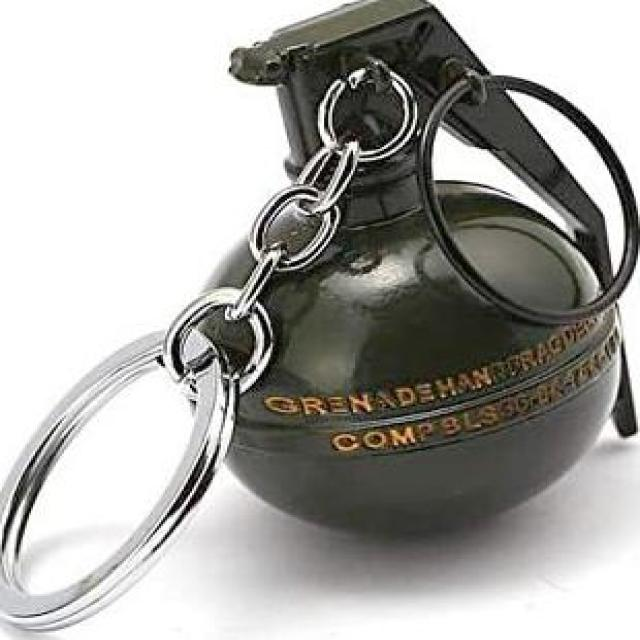grenade: (187, 1, 639, 538)
